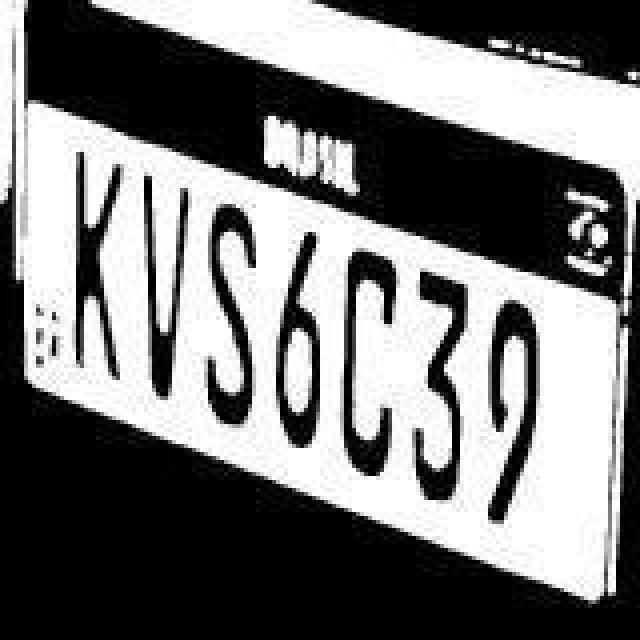3: (400, 260, 472, 500)
6: (266, 222, 326, 458)
9: (476, 296, 540, 536)
C: (330, 240, 406, 472)
K: (60, 138, 132, 390)
S: (190, 196, 258, 436)
V: (122, 164, 198, 412)
